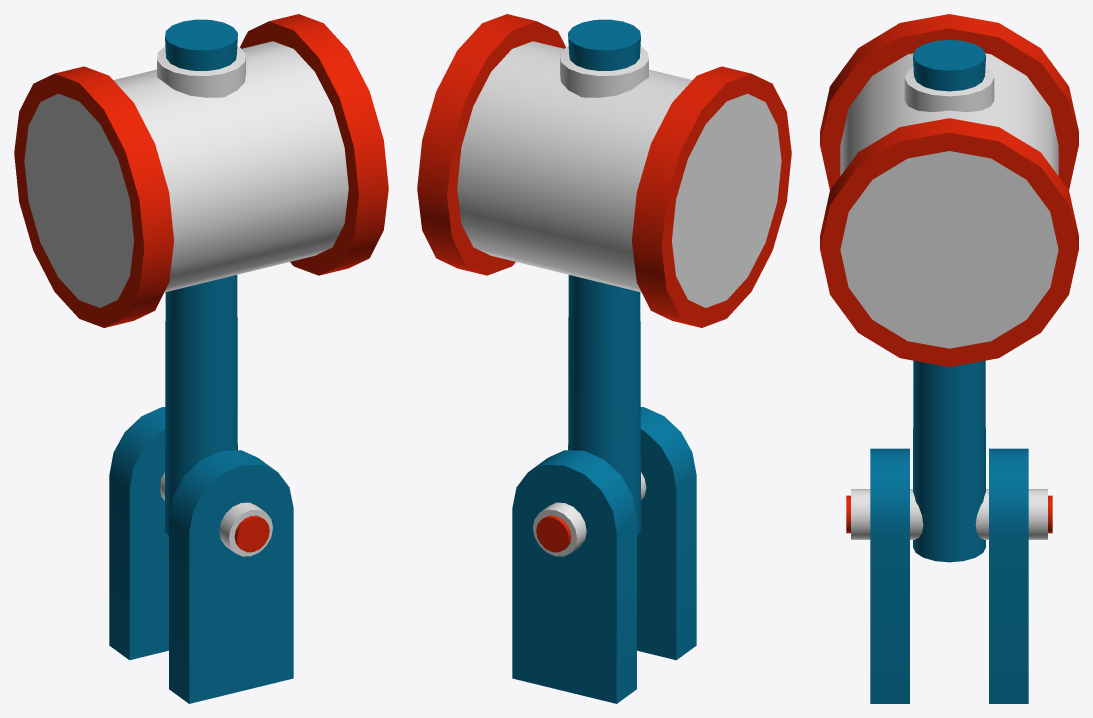
File: Obs_15.fbx
3 views of the same model, side by side, from view 1: azimuth 30°, elevation 25°; view 2: azimuth 150°, elevation 25°; view 3: azimuth 270°, elevation 25° (orthographic).
Visible parts, largest first — view 1: Obs_15_Stick, Obs_15_Base; view 2: Obs_15_Stick, Obs_15_Base; view 3: Obs_15_Stick, Obs_15_Base.
Boxes of the visible parts, x1,y1,x2,y2 form: Obs_15_Stick: (14,14,388,535); Obs_15_Base: (109,407,293,703); Obs_15_Stick: (417,14,791,535); Obs_15_Base: (512,407,696,703); Obs_15_Stick: (820,14,1078,562); Obs_15_Base: (846,448,1052,703).
Bounding box in the file's own units: 1.41 × 3.45 × 1.3.
